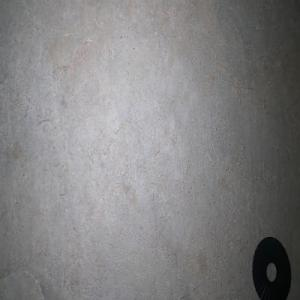Washer: (251, 236, 291, 300)
